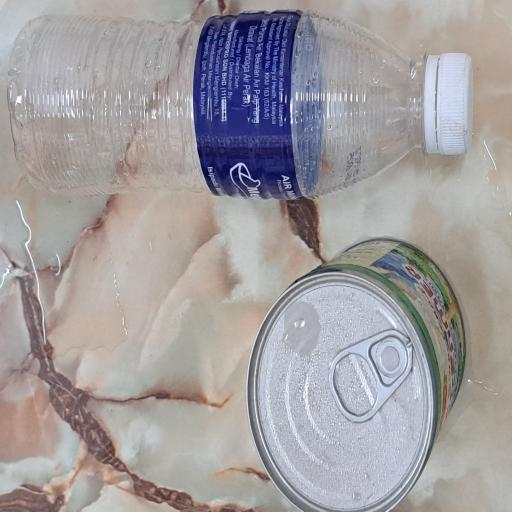can: (0, 327, 208, 512)
plastic bottle: (235, 6, 378, 512)
pop tab: (70, 436, 136, 512)
